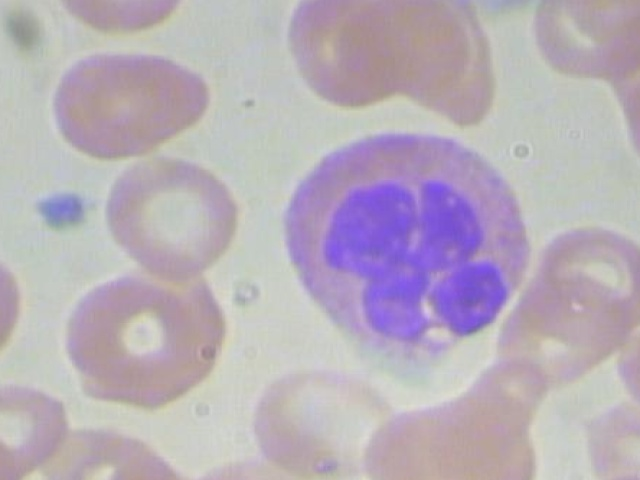Platelets: (19, 175, 101, 234)
RBC: (48, 265, 220, 404), (242, 352, 414, 480), (91, 149, 247, 280), (52, 44, 207, 166), (45, 0, 204, 35), (613, 55, 640, 192), (610, 295, 640, 417)
WBC: (265, 125, 542, 381)
